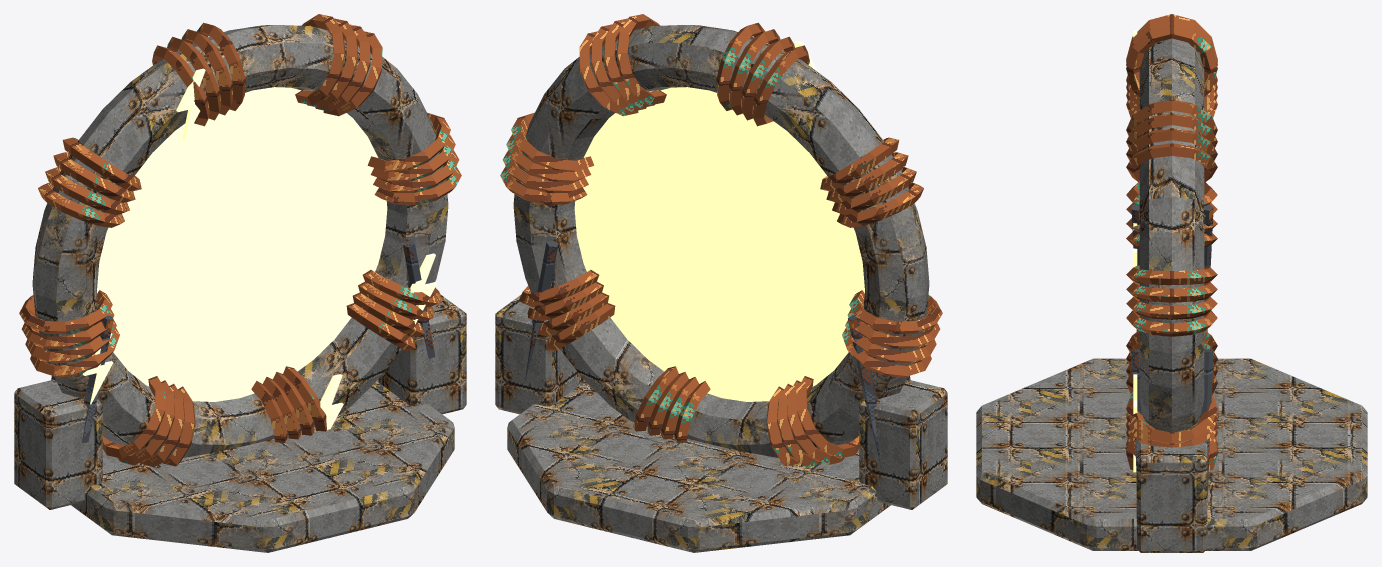
The model's file is storm_portal.glb.
The picture shows the model from 3 angles, left to right: view 1: azimuth 30°, elevation 25°; view 2: azimuth 150°, elevation 25°; view 3: azimuth 270°, elevation 25°; orthographic projection. The views are drawn at different scales.
Visible parts, largest first — view 1: Disc, Ring, Windings, Base, Foot-1, Foot1, Braces, Bolt0, Bolt3, Bolt2; view 2: Disc, Ring, Windings, Base, Foot-1, Foot1, Braces; view 3: Base, Ring, Windings, Foot1, Braces.
Part boxes in pixels (x1,y1,x2,y2): Disc: (97,87,387,401); Ring: (32,25,448,457); Windings: (19,14,461,467); Base: (71,380,454,552); Foot-1: (14,379,102,509); Foot1: (378,295,466,414); Braces: (51,240,435,442); Bolt0: (176,68,205,140); Bolt3: (320,374,343,429); Bolt2: (410,253,437,324); Disc: (574,87,864,401); Ring: (513,25,929,457); Windings: (500,14,942,467); Base: (507,380,890,552); Foot-1: (859,380,947,509); Foot1: (495,295,583,414); Braces: (524,240,910,469); Base: (976,358,1367,550); Ring: (1139,38,1204,432); Windings: (1126,14,1217,470); Foot1: (1136,442,1207,552); Braces: (1131,204,1213,502).
Bounding box in the file's own units: 6.85 × 6.85 × 5.54.
5 materials, 3 textured.
